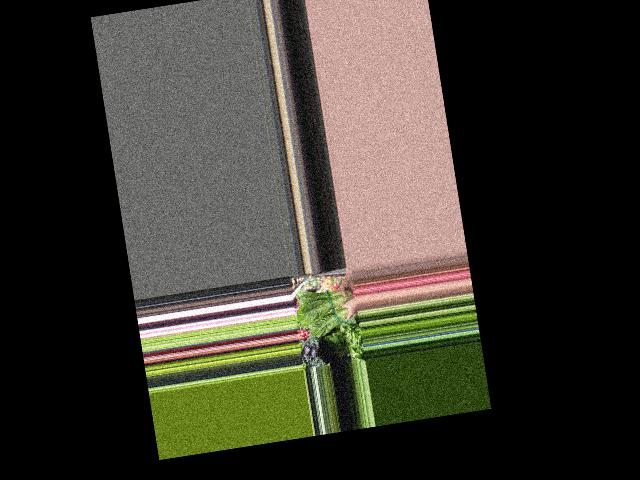lettuce: (296, 284, 362, 340)
